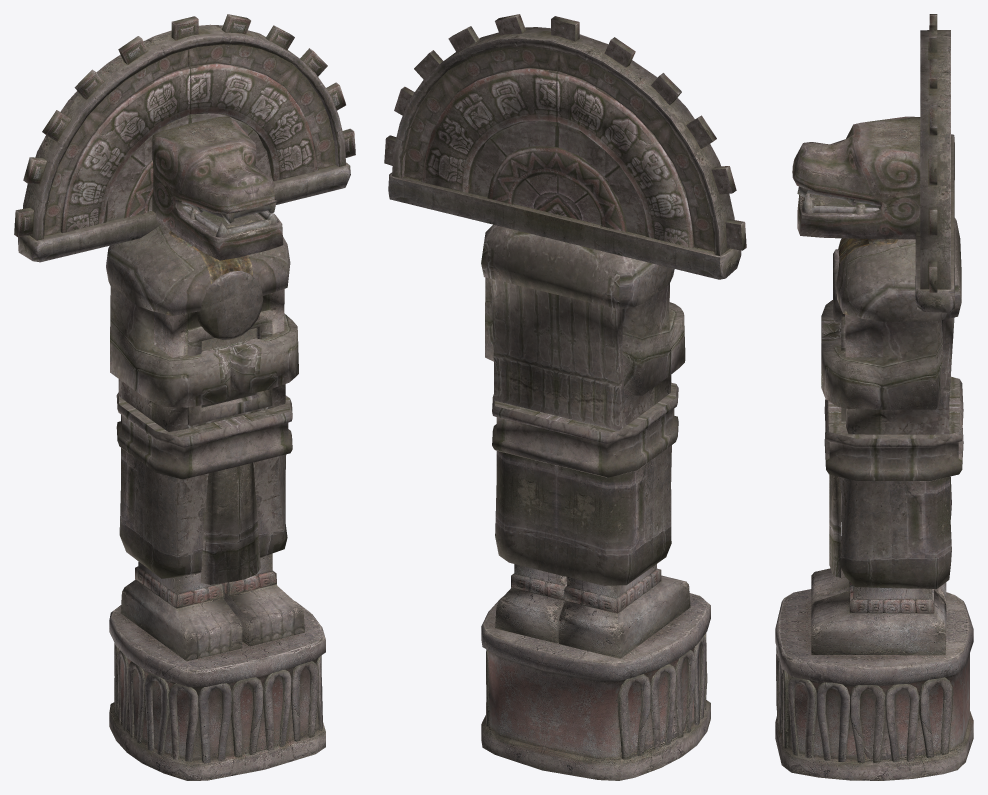
Rendered from Planetarium.fbx.
The picture shows the model from 3 angles, left to right: view 1: azimuth 30°, elevation 25°; view 2: azimuth 150°, elevation 25°; view 3: azimuth 270°, elevation 25°; orthographic projection. The views are drawn at different scales.
Visible parts, largest first — view 1: LV_AncientTower_Object_PlanetariumStatue03_SM_NWCOZL; view 2: LV_AncientTower_Object_PlanetariumStatue03_SM_NWCOZL; view 3: LV_AncientTower_Object_PlanetariumStatue03_SM_NWCOZL.
Boxes of the visible parts, x1=… form: LV_AncientTower_Object_PlanetariumStatue03_SM_NWCOZL: x1=14, y1=14, x2=355, y2=780; LV_AncientTower_Object_PlanetariumStatue03_SM_NWCOZL: x1=384, y1=14, x2=746, y2=780; LV_AncientTower_Object_PlanetariumStatue03_SM_NWCOZL: x1=775, y1=14, x2=973, y2=780.
Size of the model in its own units: 1.7 by 3.34 by 0.8505.
Materials: 3 (3 with a texture image).
